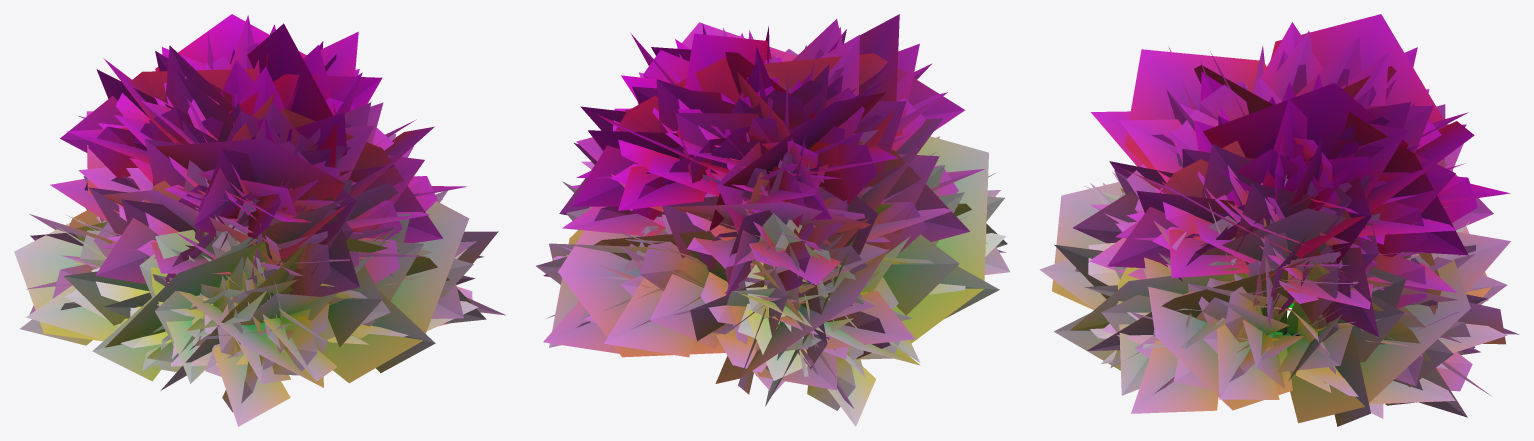
The model's file is filber_tree_2.FBX.
3 renders of one model, left to right at view 1: azimuth 30°, elevation 25°; view 2: azimuth 150°, elevation 25°; view 3: azimuth 270°, elevation 25°, orthographic. The views are drawn at different scales.
Visible parts, largest first — view 1: filbert_leaves_lod_0, filbert_leaves_shadow; view 2: filbert_leaves_lod_0, filbert_leaves_shadow; view 3: filbert_leaves_lod_0, filbert_leaves_shadow.
Part boxes in pixels (x1=…): filbert_leaves_lod_0: x1=20, y1=15, x2=505, y2=426; filbert_leaves_shadow: x1=14, y1=14, x2=498, y2=390; filbert_leaves_lod_0: x1=536, y1=19, x2=1005, y2=426; filbert_leaves_shadow: x1=543, y1=14, x2=1010, y2=408; filbert_leaves_lod_0: x1=1039, y1=22, x2=1519, y2=426; filbert_leaves_shadow: x1=1052, y1=14, x2=1505, y2=423.
Size of what is drawn, in the model's own units: 9.34 by 6.73 by 9.42.
